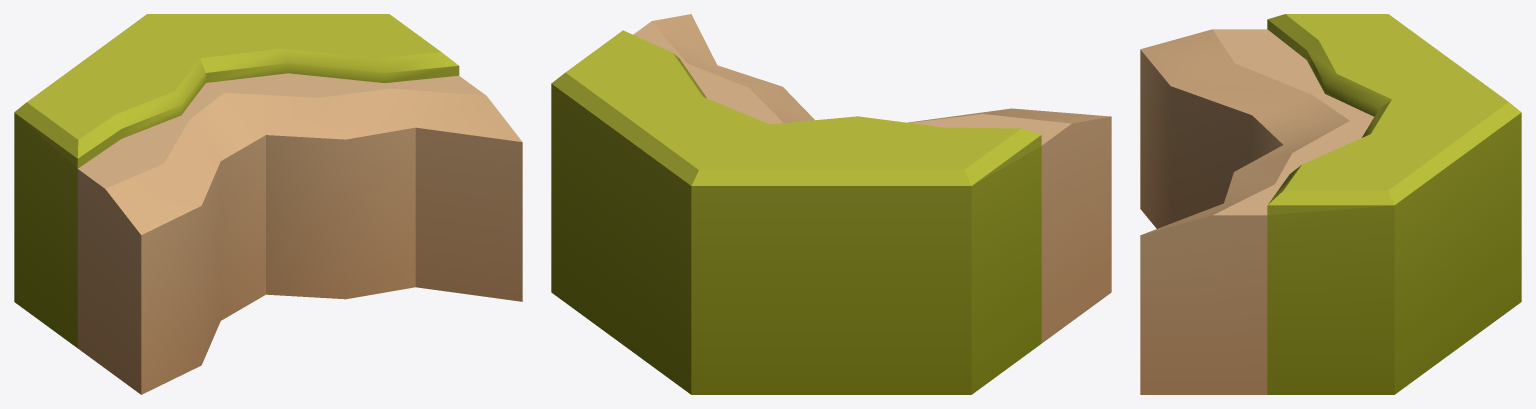
Rendered from hex_coast_B_waterless.gltf.
3 views of the same model, side by side, from view 1: azimuth 30°, elevation 25°; view 2: azimuth 150°, elevation 25°; view 3: azimuth 270°, elevation 25° (orthographic). The views are drawn at different scales.
Visible parts, largest first — view 1: hex_coast_B_waterless; view 2: hex_coast_B_waterless; view 3: hex_coast_B_waterless.
Boxes of the visible parts, x1,y1,x2,y2 form: hex_coast_B_waterless: (14,14,522,394); hex_coast_B_waterless: (551,14,1111,394); hex_coast_B_waterless: (1140,14,1521,394).
Bounding box in the file's own units: 2 × 1 × 1.73.
Materials: 1 (1 with a texture image).
